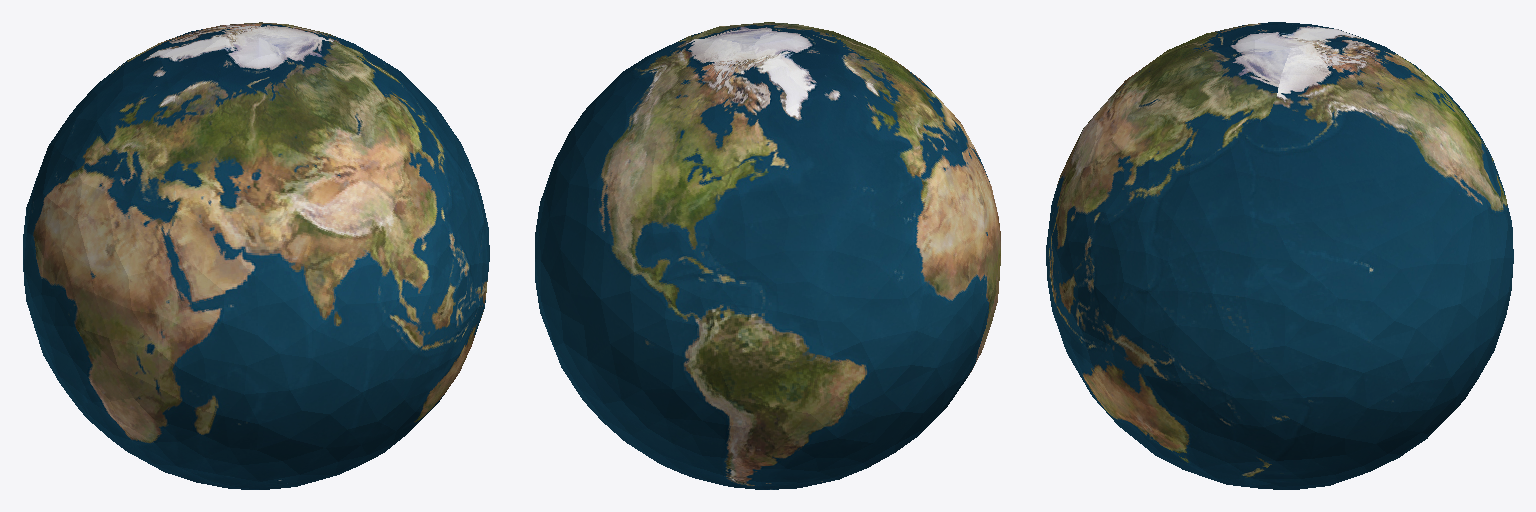
3 renders of one model, left to right at view 1: azimuth 30°, elevation 25°; view 2: azimuth 150°, elevation 25°; view 3: azimuth 270°, elevation 25°, orthographic.
Parts seen in each view (by area): view 1: Earth_Globe; view 2: Earth_Globe; view 3: Earth_Globe.
Part boxes in pixels (x1,y1,x2,y2): Earth_Globe: (23, 22, 489, 489); Earth_Globe: (535, 22, 1000, 489); Earth_Globe: (1046, 22, 1513, 489).
Size of the model in its own units: 25.55 by 25.56 by 25.55.
1 materials, 1 textured.